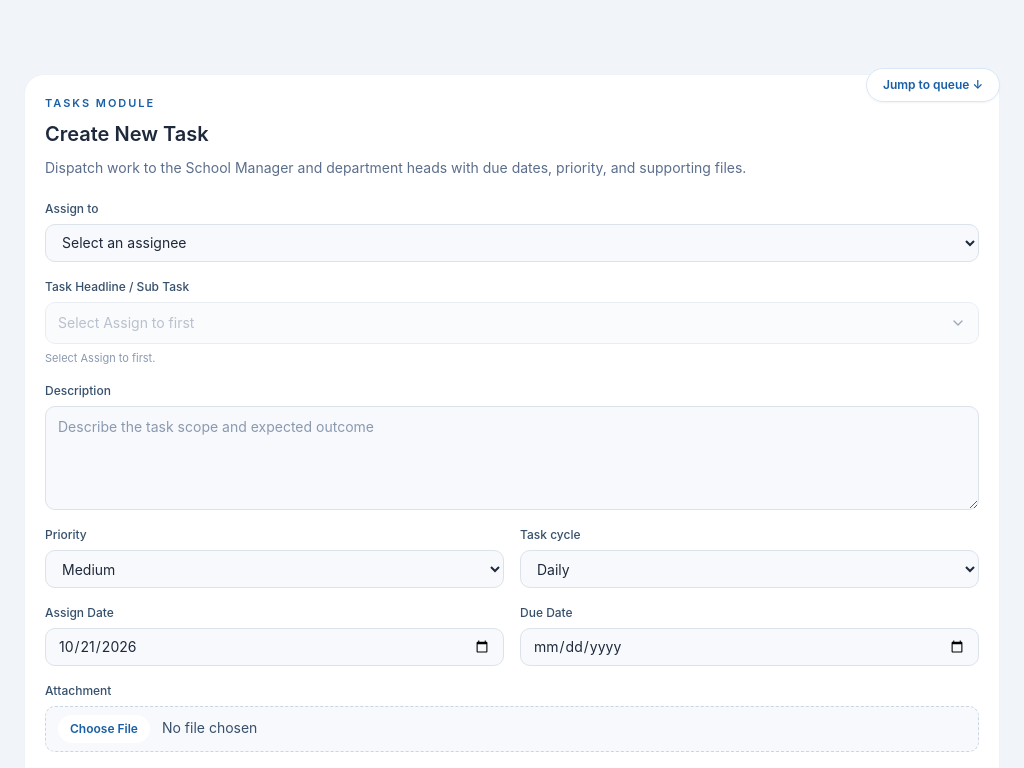
Assignment Queue › filtering by Assign to › shows an empty state when nothing is defined for the assignee
Select "HR Head - Anita" in the dropdown labelled "Assign to": (512, 242) [45,224,979,262]
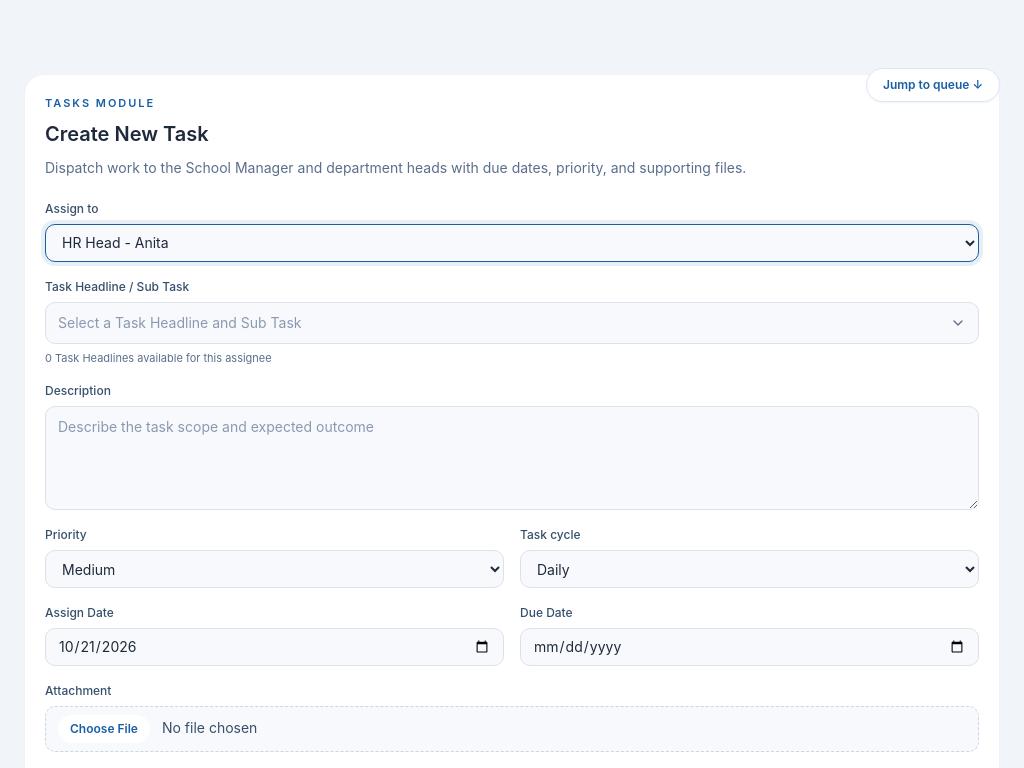
Click the button "Select a Task Headline and Sub Task": (180, 322) [45,302,979,344]
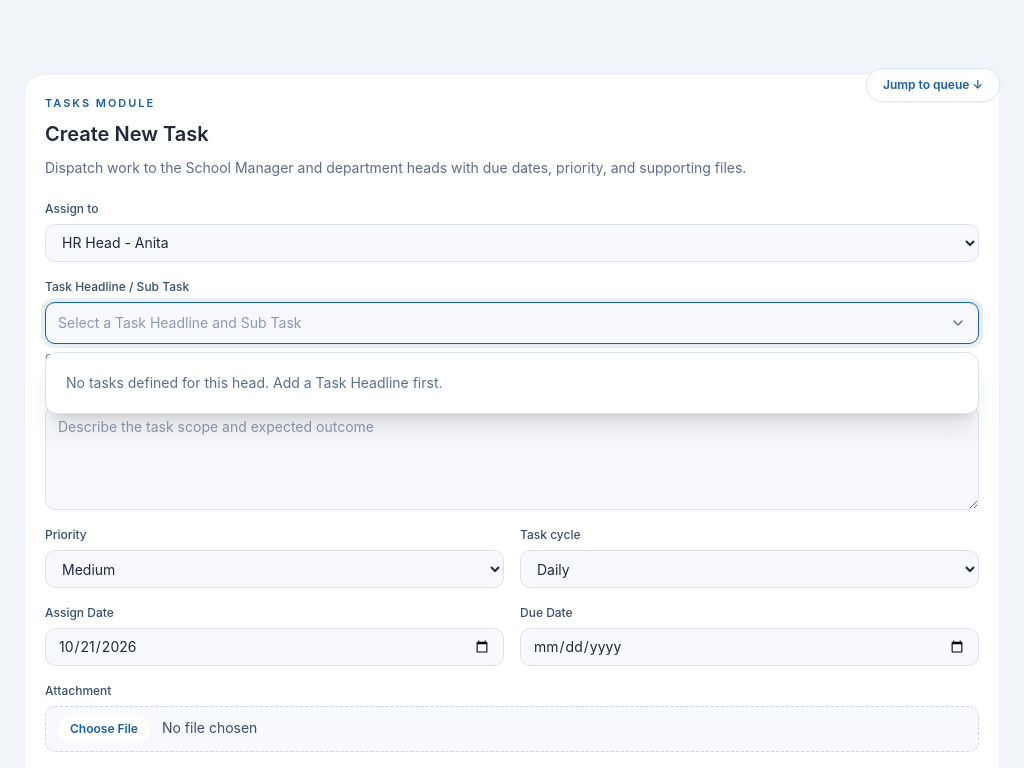
Result: the text "No tasks defined for this head. Add a Task Headline first." is shown at [66,374,442,390]
